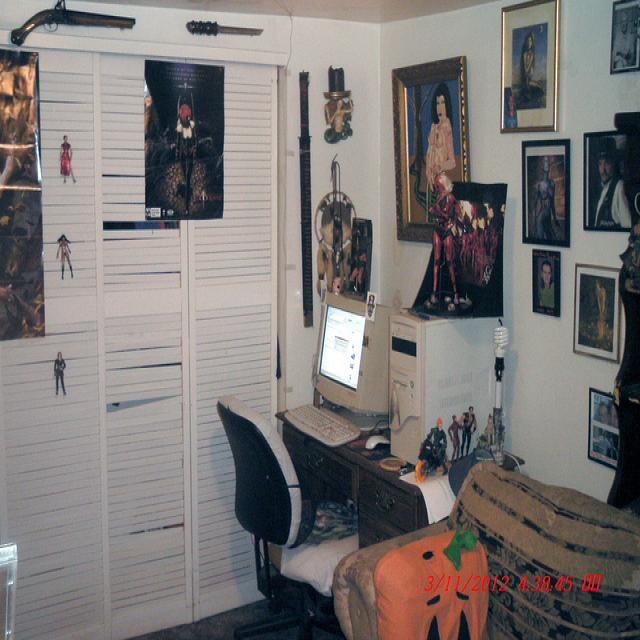motor: (413, 441, 451, 485)
